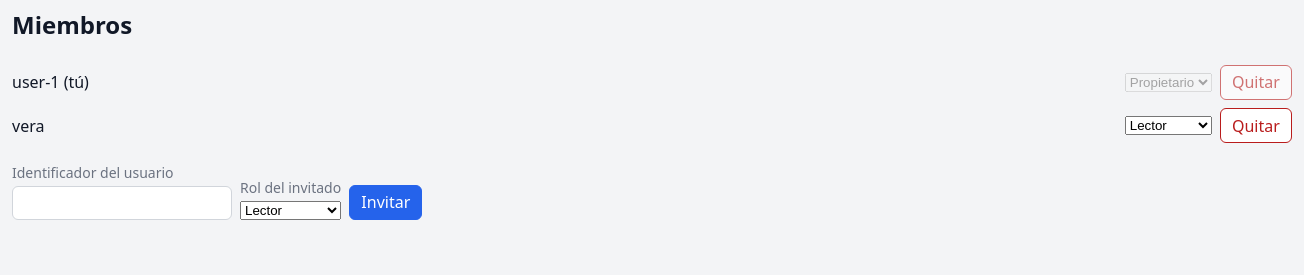
Test case: MembersPanel › no permite invitar con el identificador vacio
The width and height of the screenshot is (1304, 275).
Step 1. Click the button "Invitar" → (386,202), box [349,185,422,220]
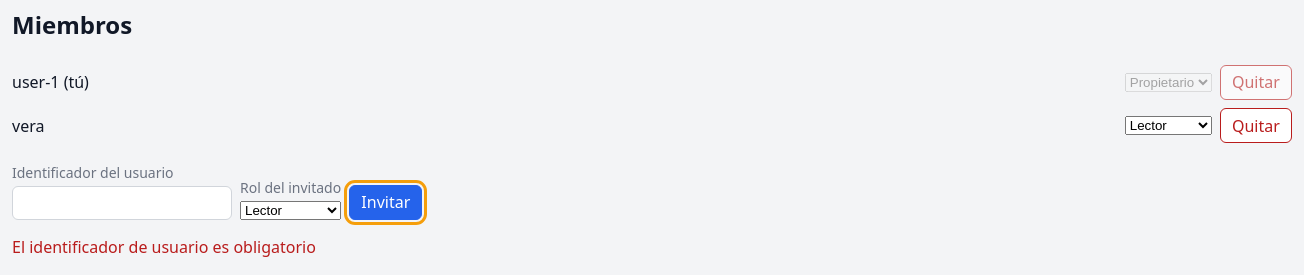
Check: the message shows "obligatorio", box [12,236,316,258]
